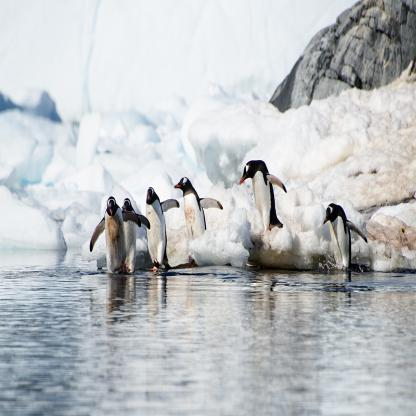Penguin: (84, 183, 155, 302), (230, 147, 290, 256), (167, 163, 229, 258), (131, 180, 182, 277), (320, 199, 375, 286), (108, 193, 149, 278)
